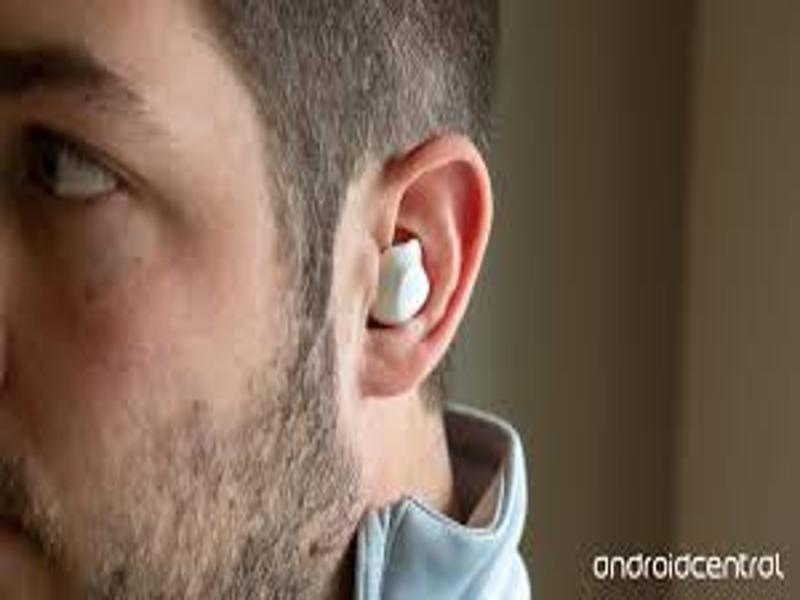headphone: (366, 243, 435, 329)
